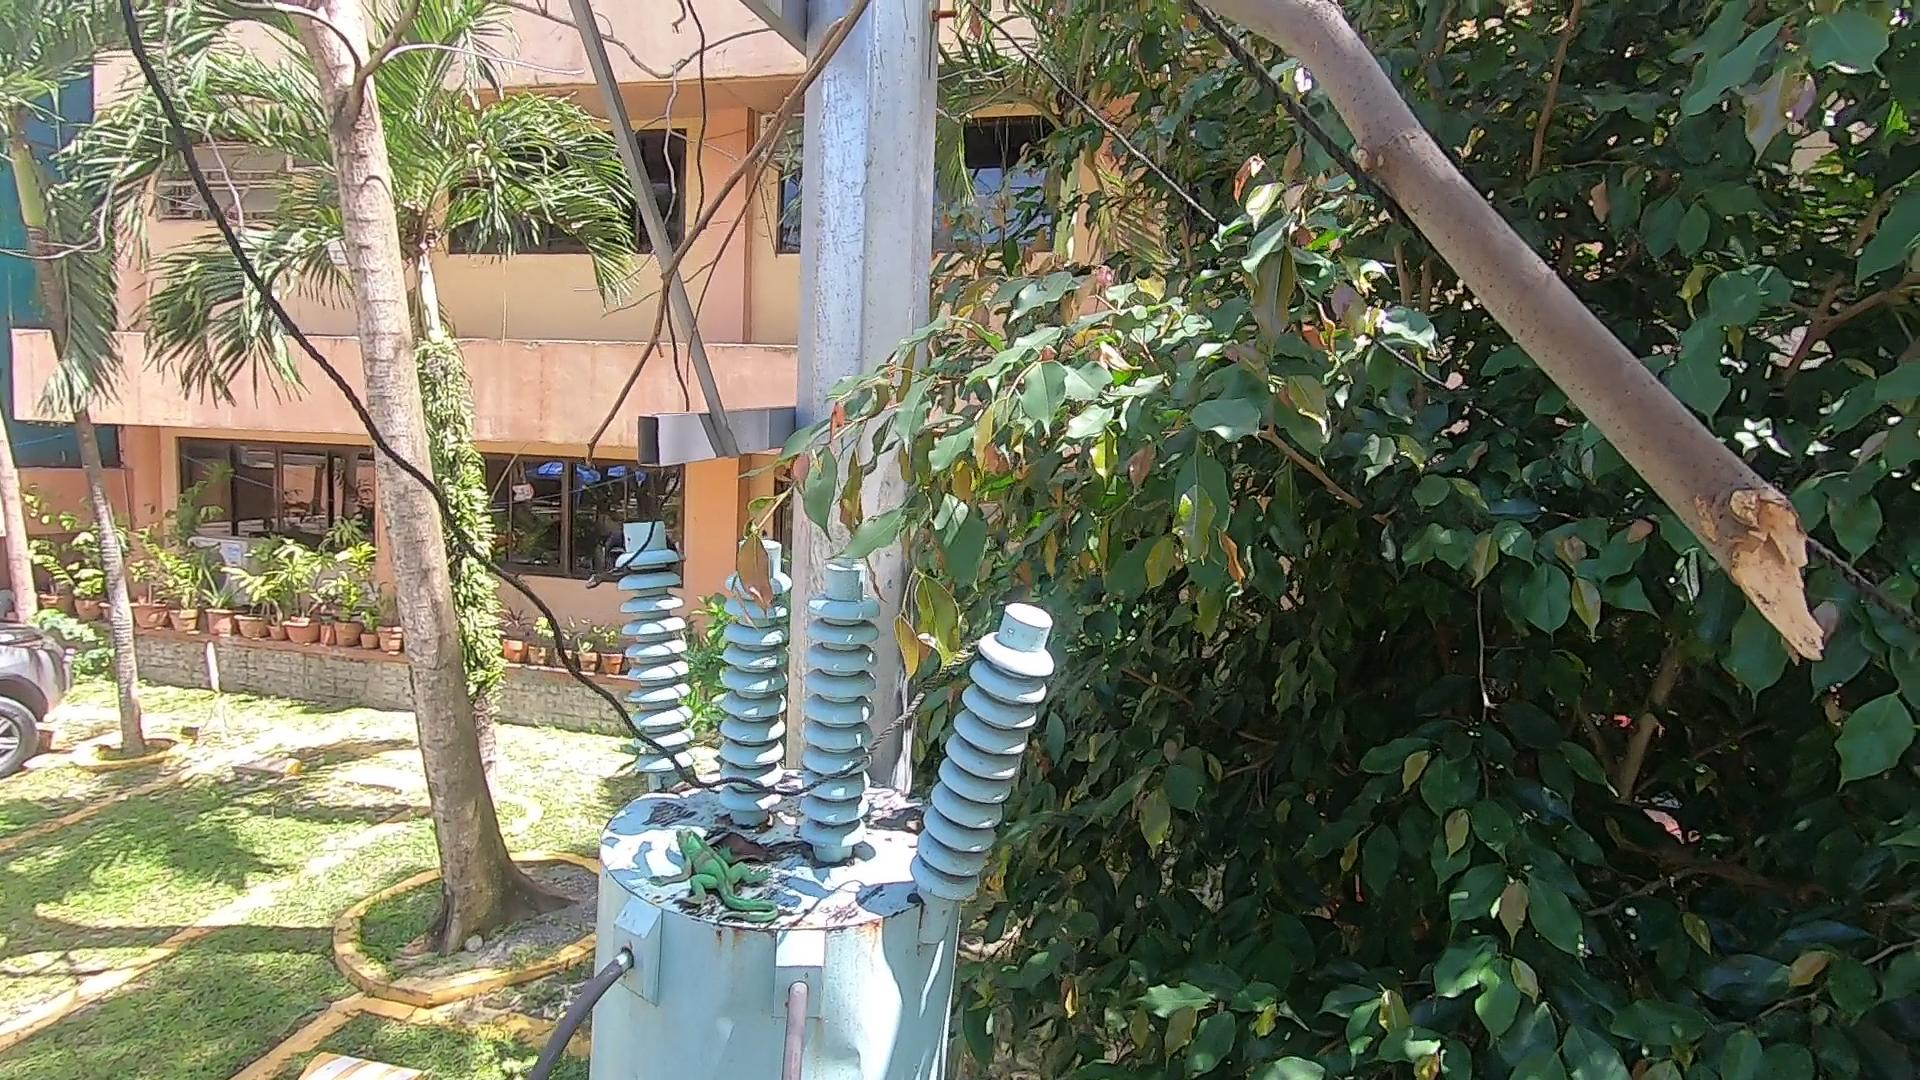branch with leaves: (676, 326, 1004, 709)
leaf: (695, 820, 812, 878), (866, 803, 949, 841), (662, 775, 728, 795)
tree branch: (1224, 13, 1824, 680)
